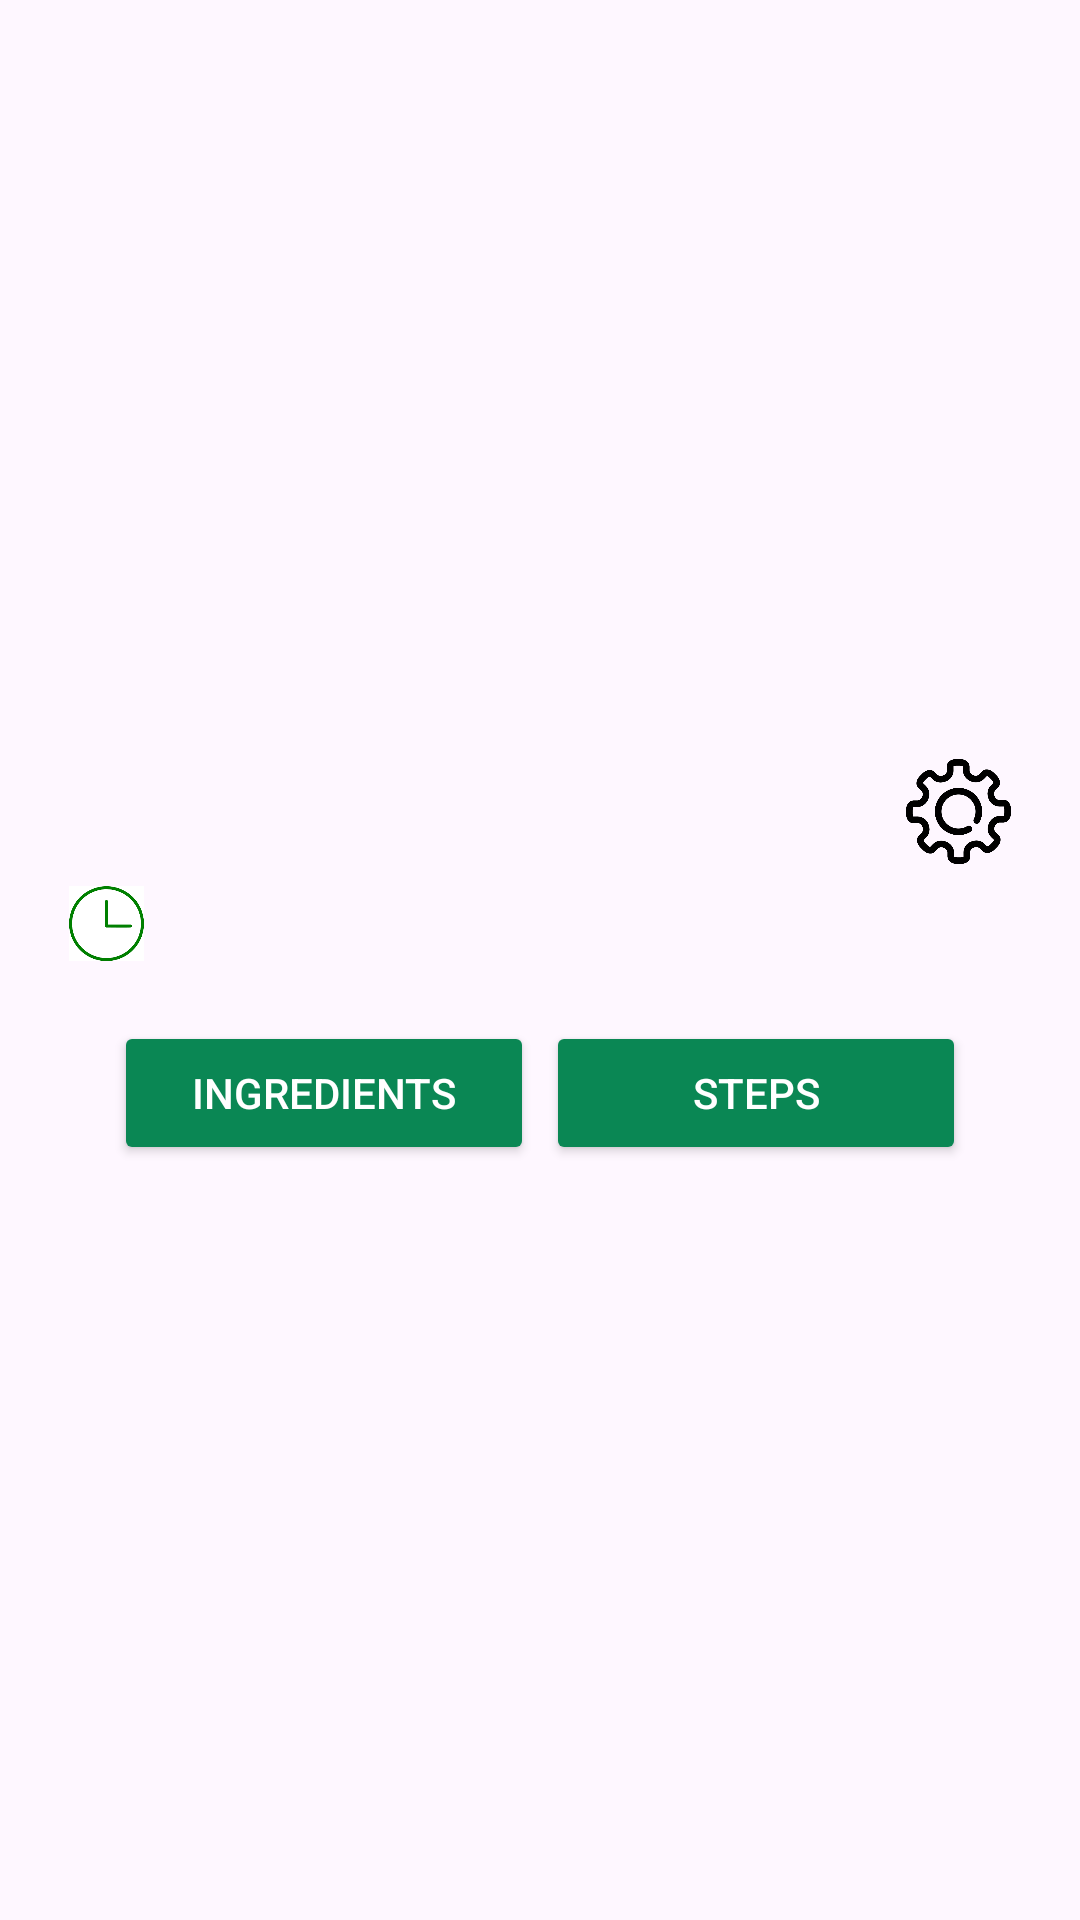

Icon bounding boxes for this 1080px x 1920px phone screenshot, format (x1, y1, x2, y2):
clock: (69, 886, 144, 961)
